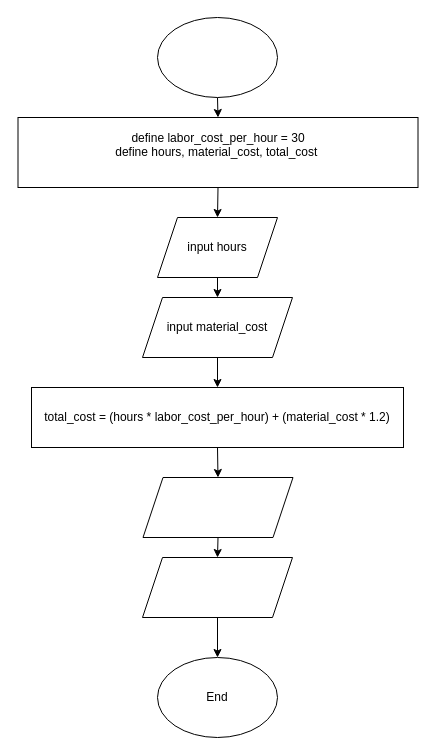
The diagram is 435 pixels wide and 755 high, and some of its shapes have lost their labels. Each missing label, with the centre of its shape:
"output End of program" belongs at point 217,587.
"output total cost" belongs at point 217,507.
"Start" belongs at point 217,57.
